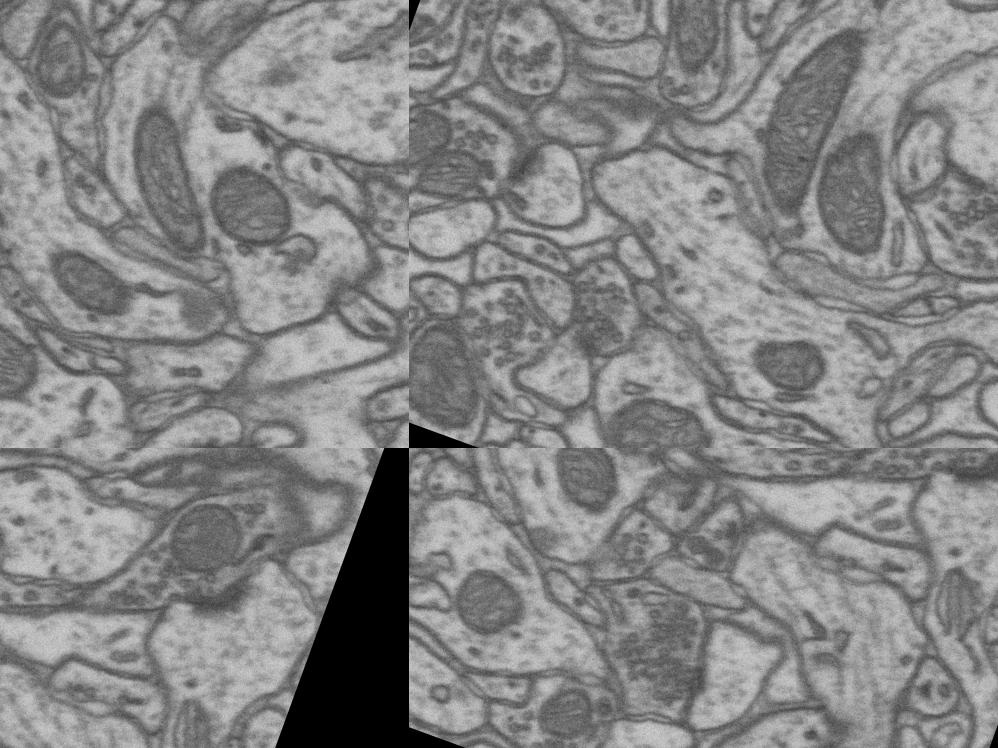mitochondria: (735, 4, 878, 226), (90, 87, 248, 262), (791, 116, 920, 269), (188, 146, 311, 266), (146, 479, 265, 598), (409, 312, 503, 440), (436, 552, 546, 658), (36, 240, 149, 336), (13, 0, 106, 113), (533, 448, 642, 528), (737, 319, 838, 404), (593, 382, 722, 448), (647, 0, 736, 85), (521, 667, 609, 748), (0, 302, 56, 424), (409, 133, 491, 215), (409, 96, 463, 182)
